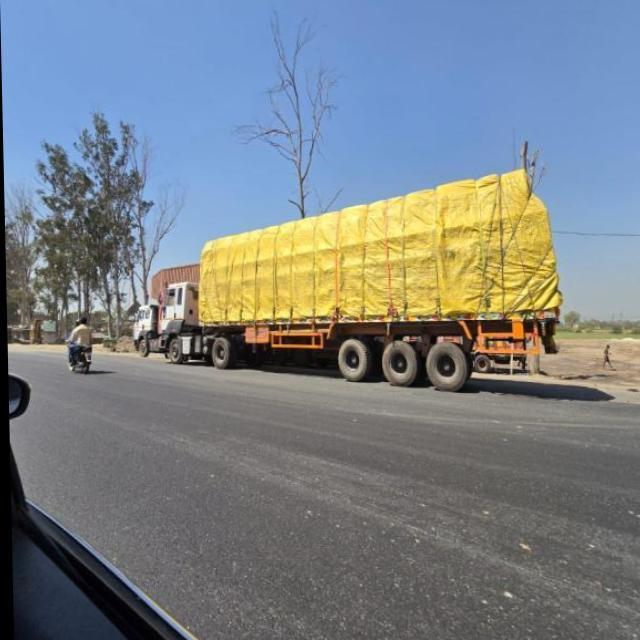covered: (167, 164, 557, 378)
